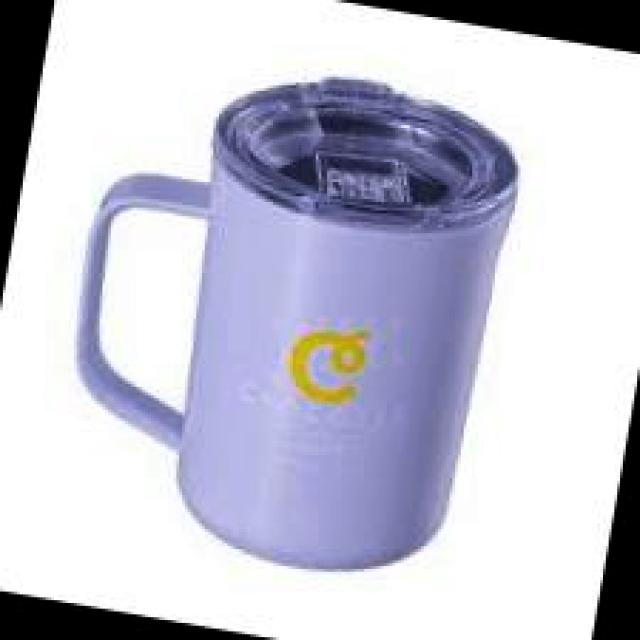bottle: (38, 33, 530, 590)
